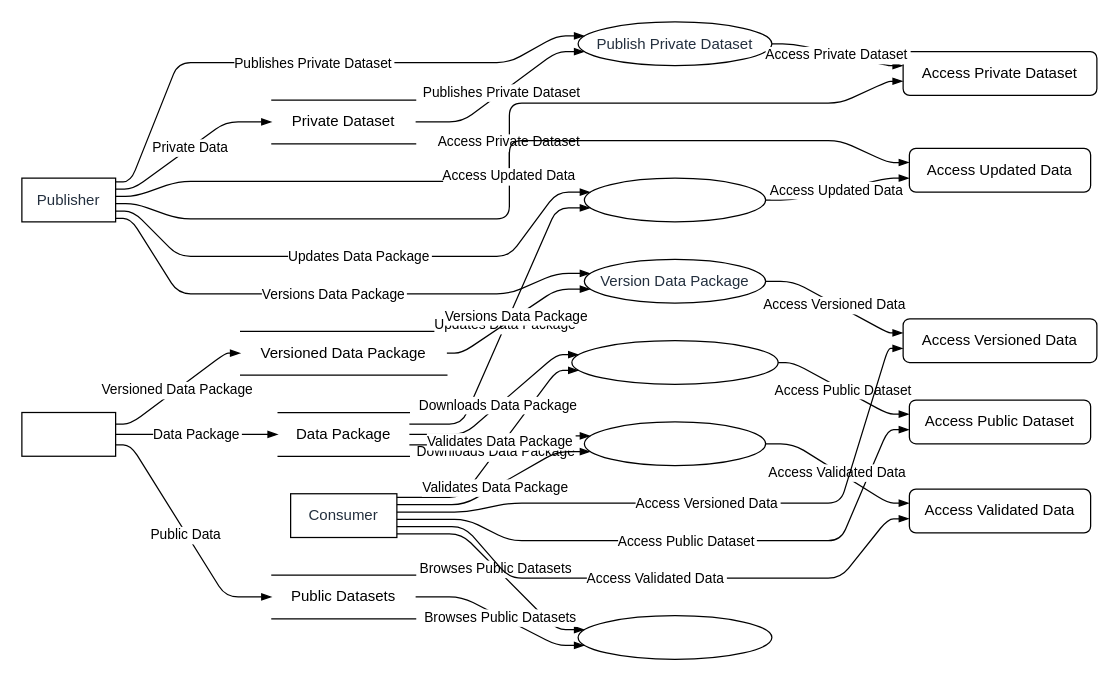
This 1119x681 diagram has some shape labels left out. The box of each missing label's shape, as (x1, y1, x2, y2) in pixels:
Browse Public Datasets: (577, 614, 772, 659)
Download Data Package: (571, 339, 778, 384)
Registry: (21, 411, 116, 456)
Update Data Package: (583, 177, 766, 222)
Validate Data Package: (583, 421, 766, 466)
